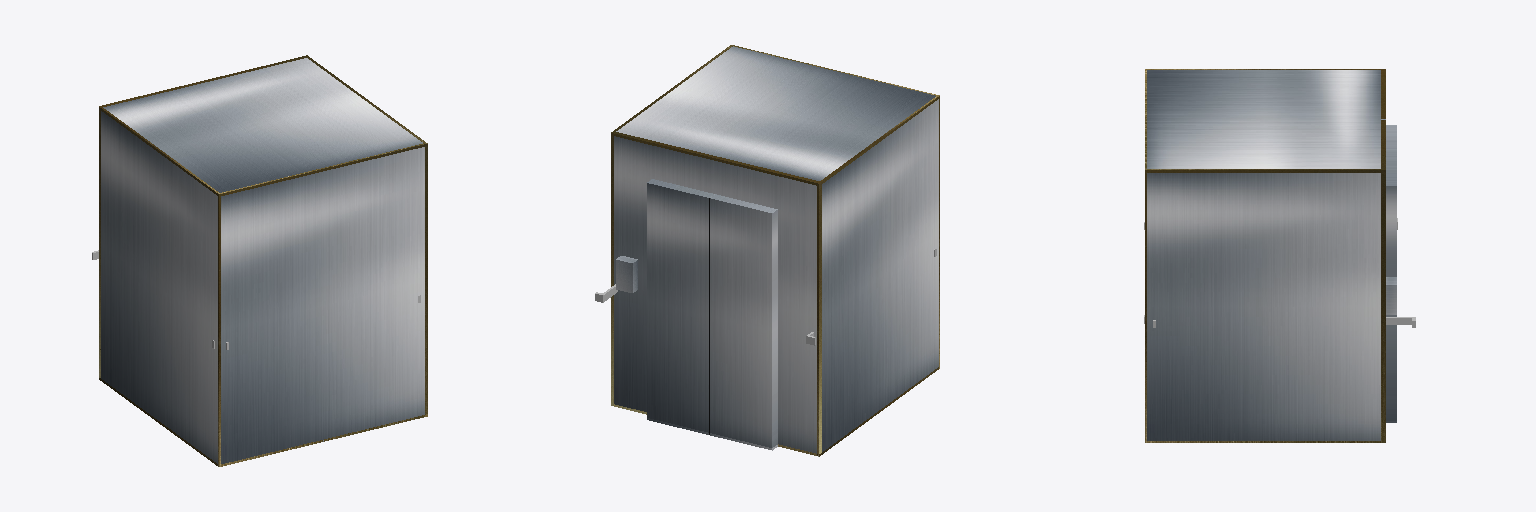
3 views of the same model, side by side, from view 1: azimuth 30°, elevation 25°; view 2: azimuth 150°, elevation 25°; view 3: azimuth 270°, elevation 25° (orthographic).
Parts seen in each view (by area): view 1: 2x2x2,5; view 2: 2x2x2,5, Cube.001_Cube.007; view 3: 2x2x2,5.
Part boxes in pixels (x1,y1,x2,y2): 2x2x2,5: (99,55,427,466); 2x2x2,5: (611,45,939,456); Cube.001_Cube.007: (616,256,637,292); 2x2x2,5: (1145,69,1396,442).
Size of the model in its own units: 2.02 by 2.5 by 2.26.
Materials: 18 (4 with a texture image).